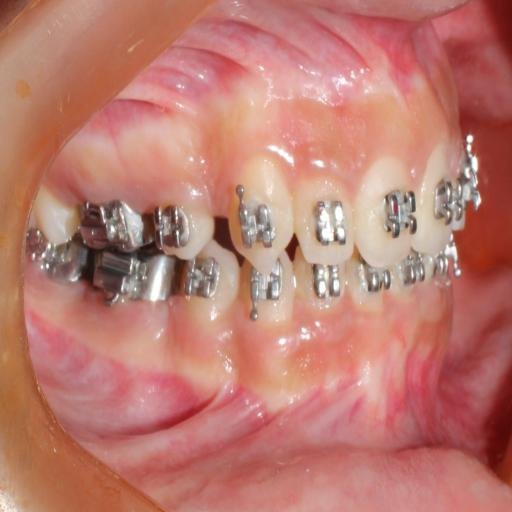correct_brace: (148, 182, 218, 264), (233, 196, 279, 257), (381, 186, 418, 242), (429, 172, 466, 228), (314, 199, 347, 244)
incorrect_brace: (289, 174, 355, 269), (153, 202, 190, 247)
